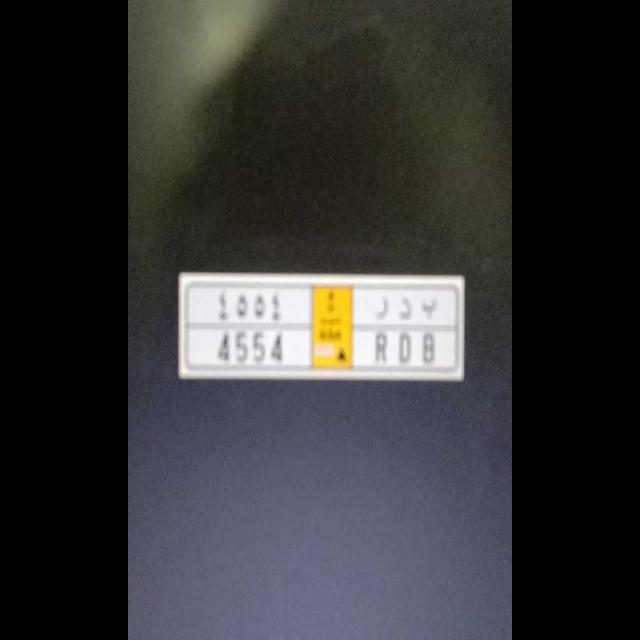license_plate: (196, 325, 448, 373)
